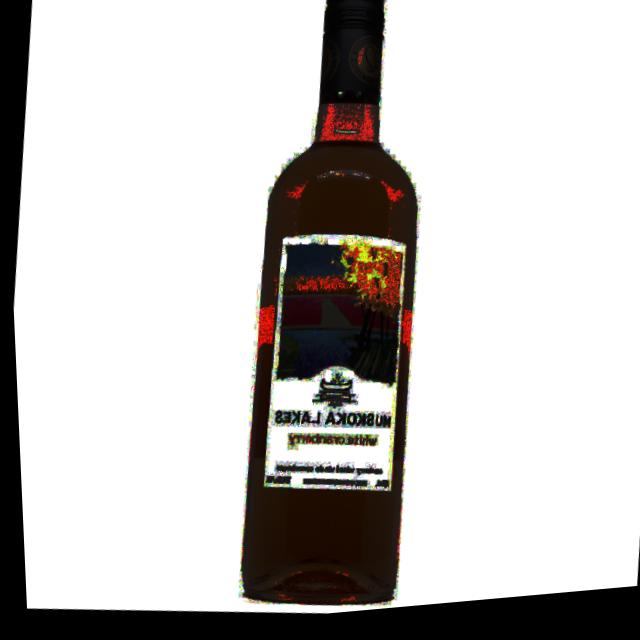drink: (213, 0, 461, 616)
